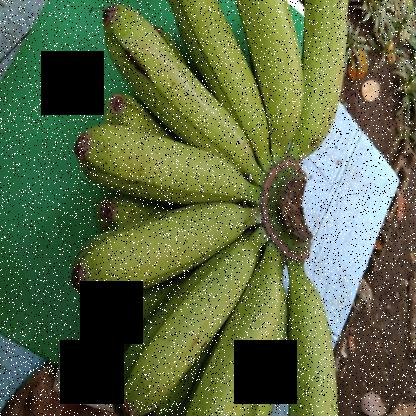freshunripe: (114, 246, 255, 415), (72, 191, 249, 307), (164, 0, 272, 156), (71, 124, 252, 212), (193, 281, 293, 415), (225, 0, 309, 146), (288, 0, 355, 159), (285, 268, 351, 415)
unripe: (102, 0, 257, 161)
